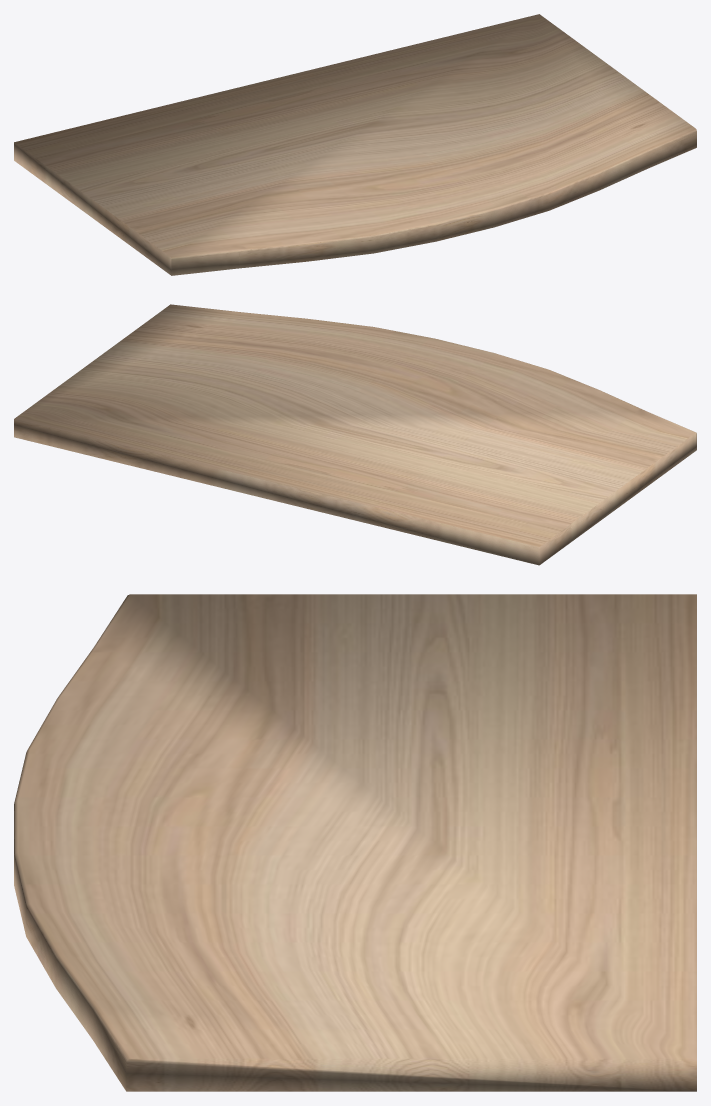
File: table_round.fbx
3 renders of one model, top to bottom at view 1: azimuth 30°, elevation 25°; view 2: azimuth 150°, elevation 25°; view 3: azimuth 270°, elevation 25°, orthographic. The views are drawn at different scales.
Visible parts, largest first — view 1: Table.002; view 2: Table.002; view 3: Table.002.
Part boxes in pixels (bbox=[...]): Table.002: bbox=[14, 14, 696, 275]; Table.002: bbox=[14, 304, 696, 565]; Table.002: bbox=[14, 594, 696, 1091].
Size of the model in its own units: 229 by 7.62 by 142.
